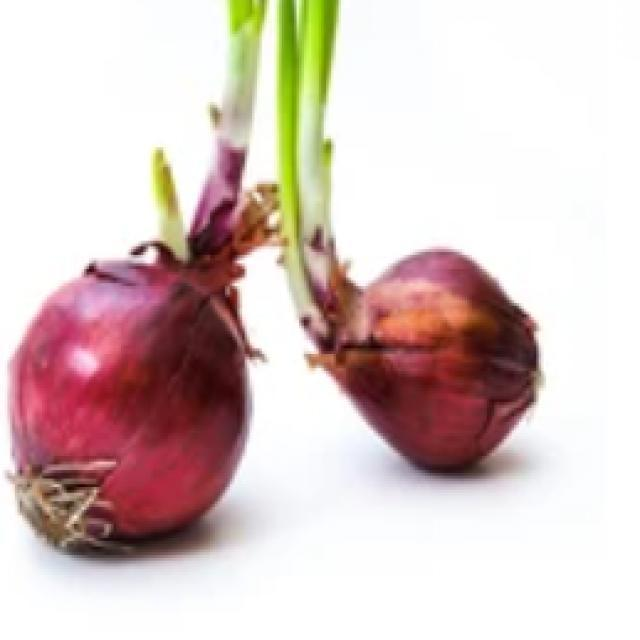sprouting: (193, 17, 279, 292), (282, 42, 348, 342)
